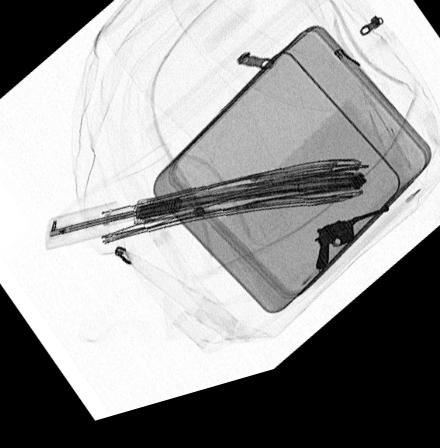Gun: (310, 226, 387, 287)
